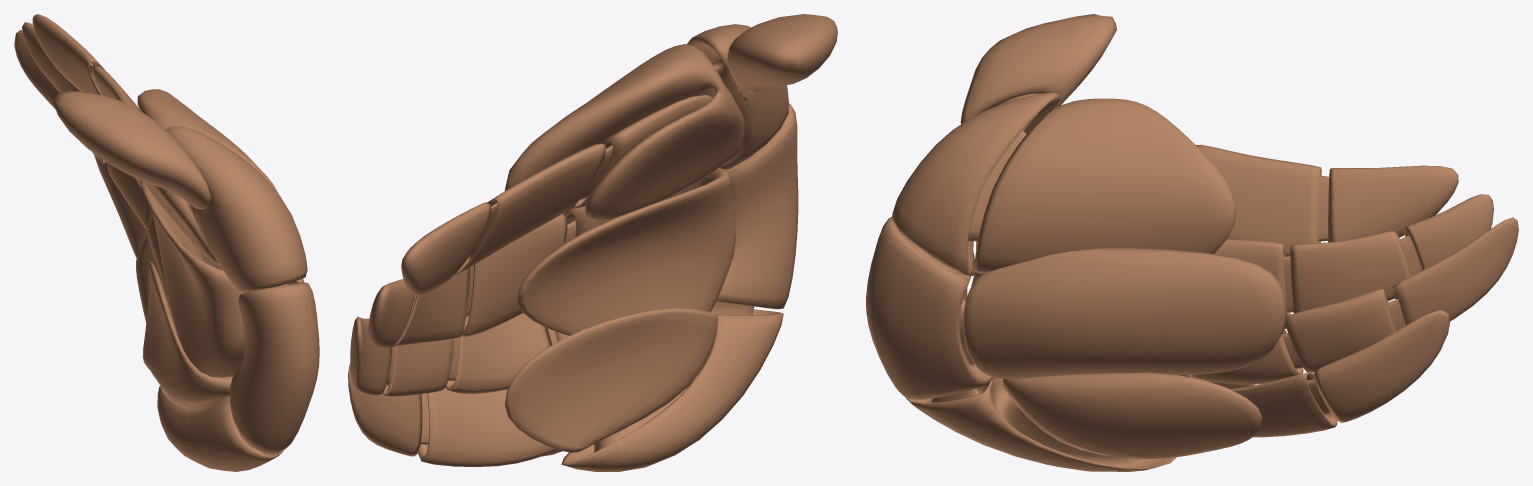
Rendered from leftwing_closed.obj.
3 views of the same model, side by side, from view 1: azimuth 30°, elevation 25°; view 2: azimuth 150°, elevation 25°; view 3: azimuth 270°, elevation 25° (orthographic). The views are drawn at different scales.
Parts seen in each view (by area): view 1: vn_alternatedash_left_wing_compo_closed_vn_alternatedash_left_wi; view 2: vn_alternatedash_left_wing_compo_closed_vn_alternatedash_left_wi; view 3: vn_alternatedash_left_wing_compo_closed_vn_alternatedash_left_wi.
Part boxes in pixels (bbox=[...]): vn_alternatedash_left_wing_compo_closed_vn_alternatedash_left_wi: bbox=[14, 14, 319, 471]; vn_alternatedash_left_wing_compo_closed_vn_alternatedash_left_wi: bbox=[348, 14, 837, 471]; vn_alternatedash_left_wing_compo_closed_vn_alternatedash_left_wi: bbox=[866, 14, 1518, 471].
Bounding box in the file's own units: 6.17 × 9.84 × 14.99.
